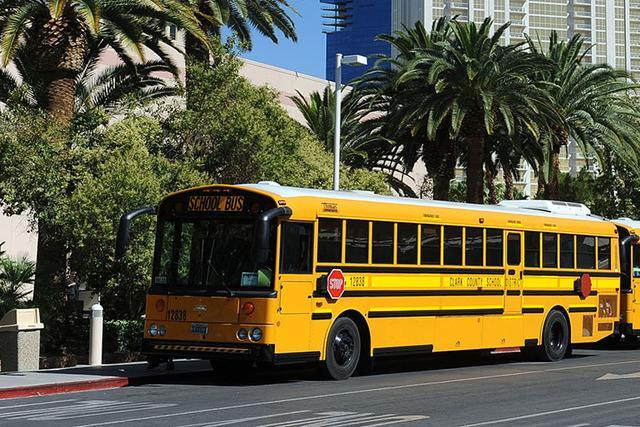Bus: (142, 182, 640, 382)
